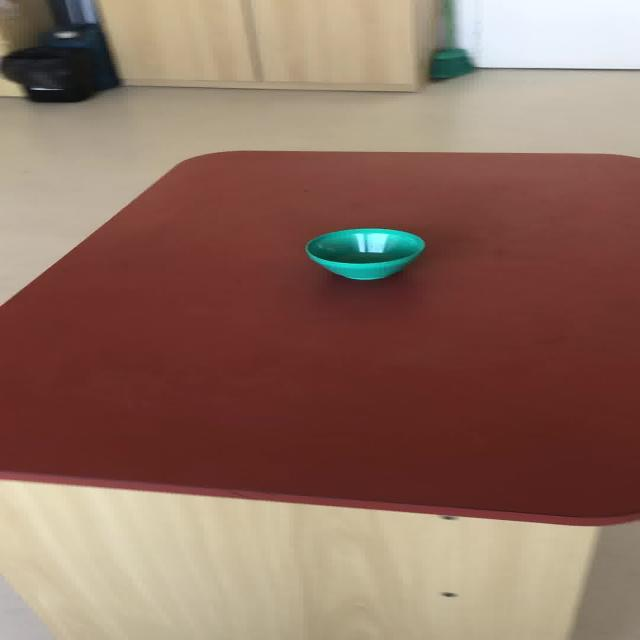bowl: (303, 227, 425, 280)
